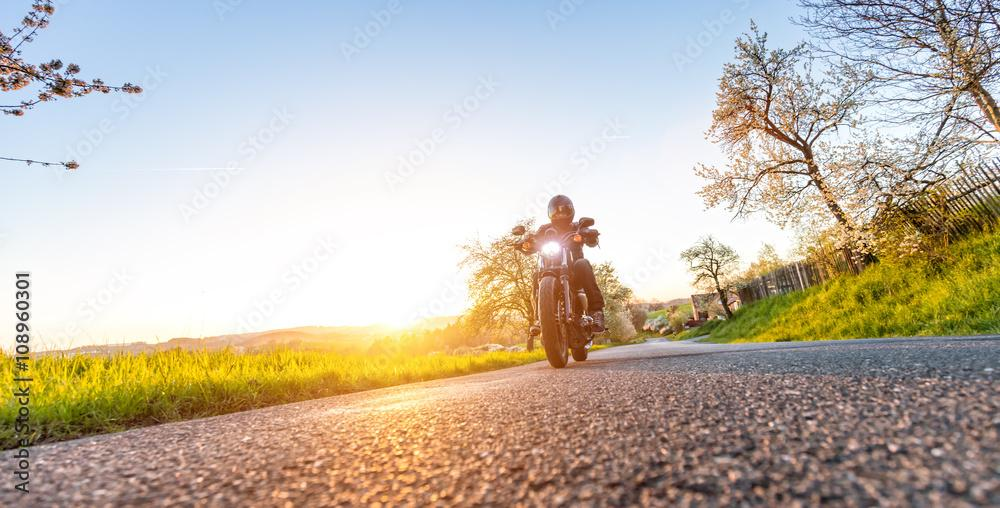helmet: (547, 194, 576, 231)
